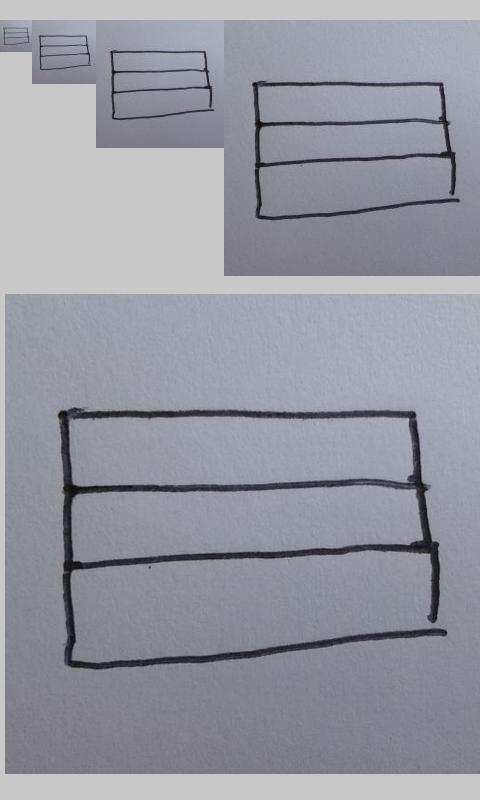list_view: (58, 405, 441, 672), (253, 81, 457, 221), (110, 49, 214, 121), (38, 34, 91, 71), (3, 27, 30, 46)
